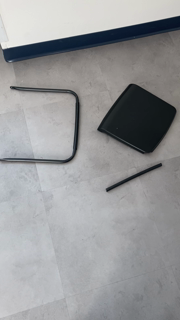C pipe: (1, 83, 83, 167)
Seat: (95, 83, 178, 158)
i pipe: (104, 161, 164, 194)
